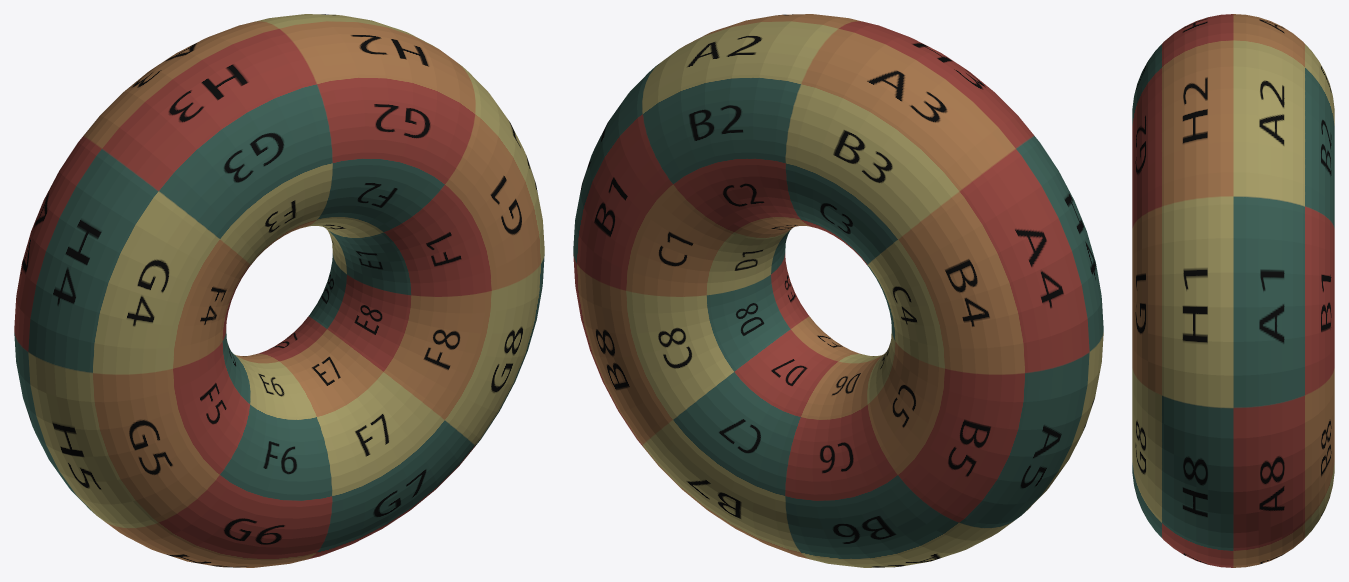
The model's file is texture_torus_R2_r17.glb.
The picture shows the model from 3 angles, left to right: view 1: azimuth 30°, elevation 25°; view 2: azimuth 150°, elevation 25°; view 3: azimuth 270°, elevation 25°; orthographic projection. The views are drawn at different scales.
Visible parts, largest first — view 1: world; view 2: world; view 3: world.
Boxes of the visible parts, x1,y1,x2,y2 form: world: [14, 14, 544, 567]; world: [573, 14, 1103, 567]; world: [1132, 14, 1334, 567].
Size of the model in its own units: 17.87 by 17.83 by 6.52.
1 material, 1 textured.
